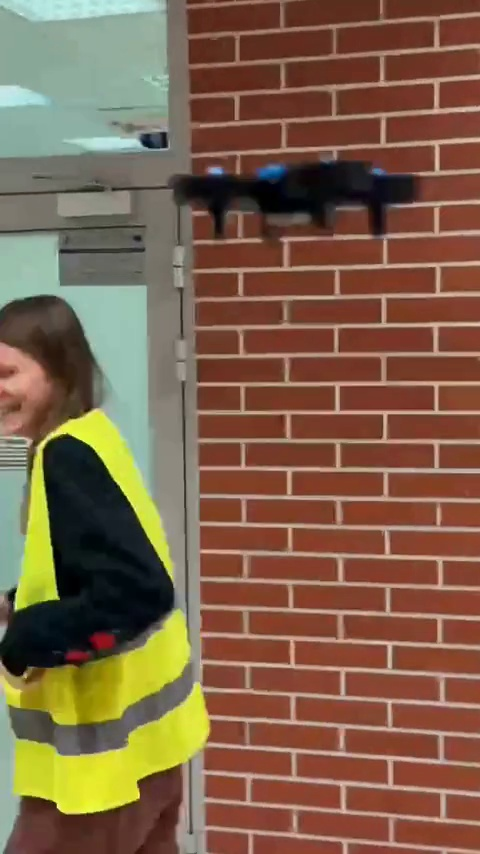drone: (165, 150, 424, 246)
vest: (0, 285, 207, 844)
